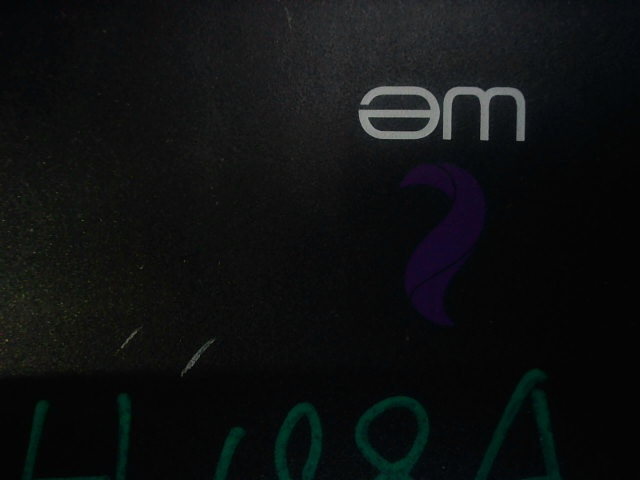AT_We: (351, 80, 533, 326)
